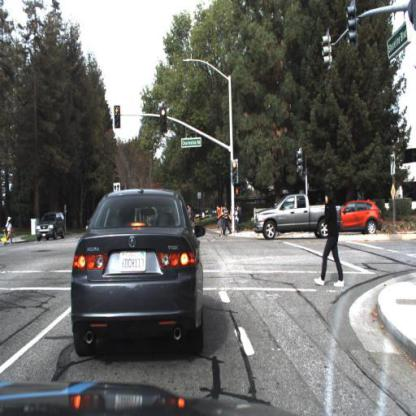biker: (1, 215, 20, 249)
car: (70, 187, 207, 358), (254, 192, 344, 244), (339, 198, 384, 236), (34, 209, 69, 243)
pedestrian: (314, 186, 349, 296), (216, 204, 232, 238), (4, 215, 18, 248), (235, 202, 243, 232), (188, 204, 196, 231)
trafficLight-Red: (231, 158, 240, 185), (159, 106, 167, 135)
trafficLight-RedLeft: (114, 103, 122, 129)
